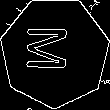M_E: (30, 29, 80, 76)
